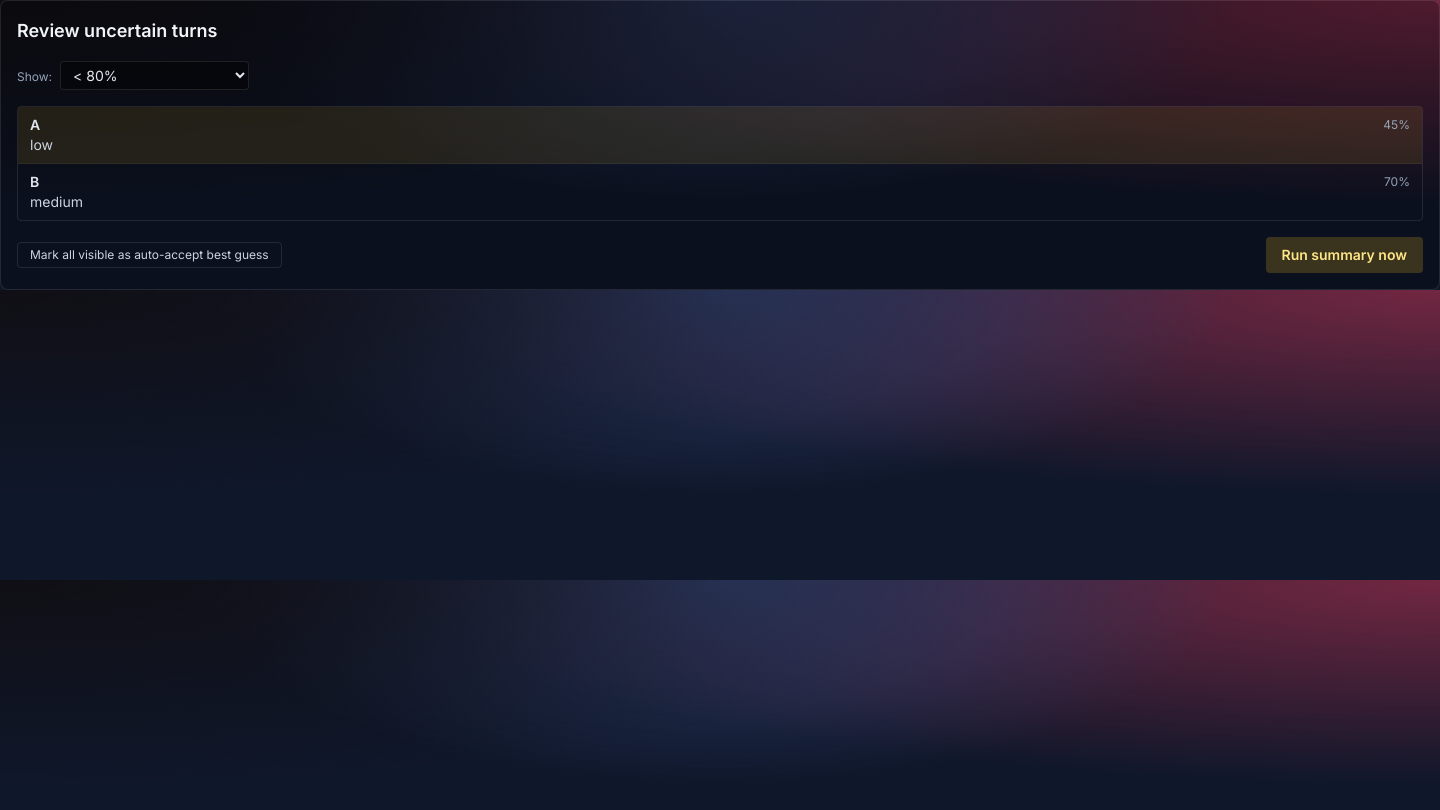
Scenario: Diarization Review — confidence-threshold filter (AC1) › changing filter to <60% reduces visible turns
Expected: the number of options is 2, [18, 107, 1422, 164]; [18, 164, 1422, 220]
Select "< 60%" in the dropdown at (155, 76), box [60, 61, 249, 90]
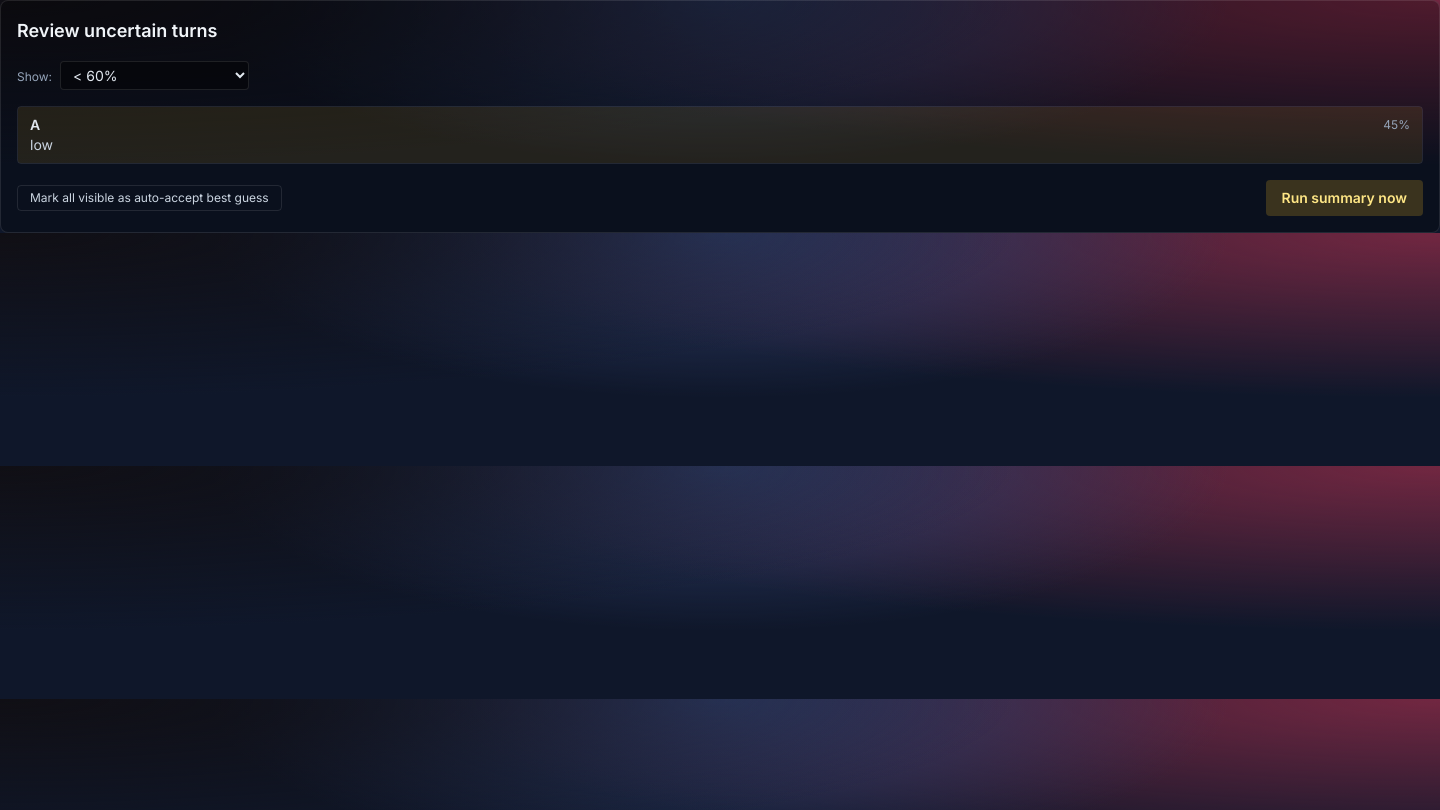
Result: the number of options is 1 at [18, 107, 1422, 163]
